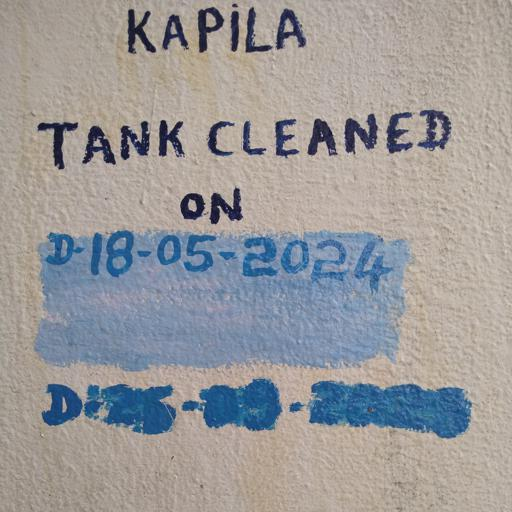stain: (31, 220, 412, 374), (36, 372, 479, 446), (35, 106, 464, 173), (115, 0, 319, 62), (167, 180, 254, 229)
